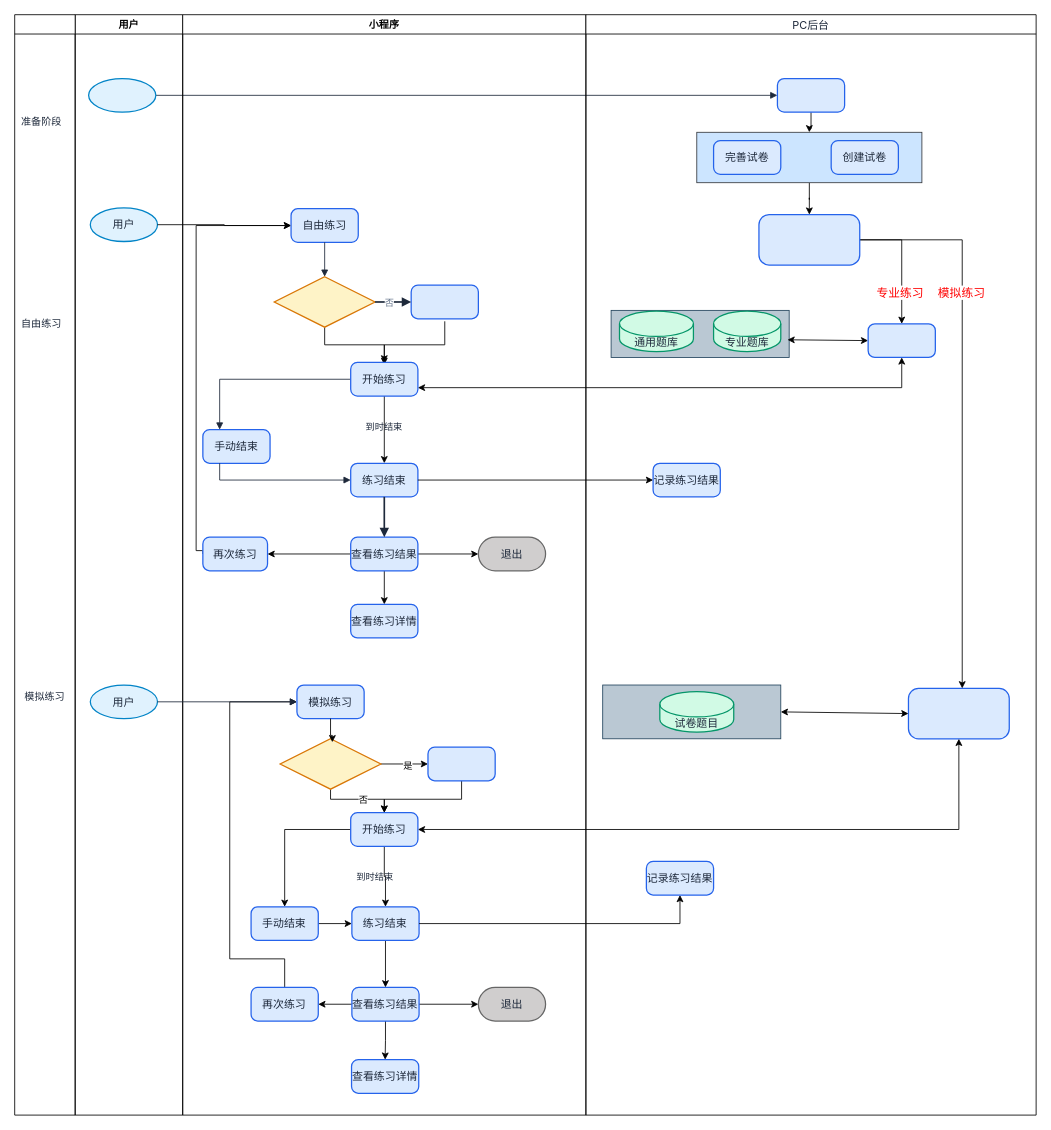
This 1051x1130 diagram has some shape labels left out. The shapes that lost their labels are listed below. From the top down, each one's centre as x and y in pixels, then its label:
the point at 122,95: 管理员
the point at 810,95: 配置专业类型
the point at 809,239: 「练习设置」配置
the point at 324,301: 是否有专业
the point at 444,301: 选择专业
the point at 901,340: 系统随机 生成练习试卷
the point at 958,713: 系统随机生成 练习试卷
the point at 330,763: 是否有多个 模拟练习
the point at 461,763: 选择练习
